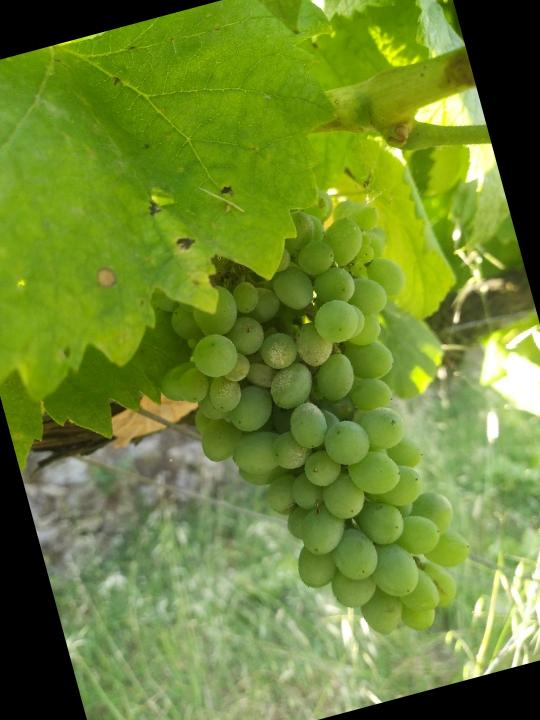grape: (121, 175, 498, 681)
